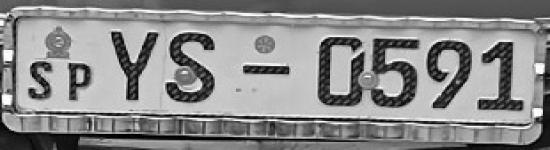-: (244, 64, 291, 76)
0: (319, 37, 363, 107)
1: (482, 40, 523, 108)
5: (373, 40, 420, 106)
9: (428, 40, 472, 109)
P: (67, 65, 92, 100)
S: (167, 32, 216, 102), (30, 62, 52, 98)
Y: (111, 31, 157, 101)
